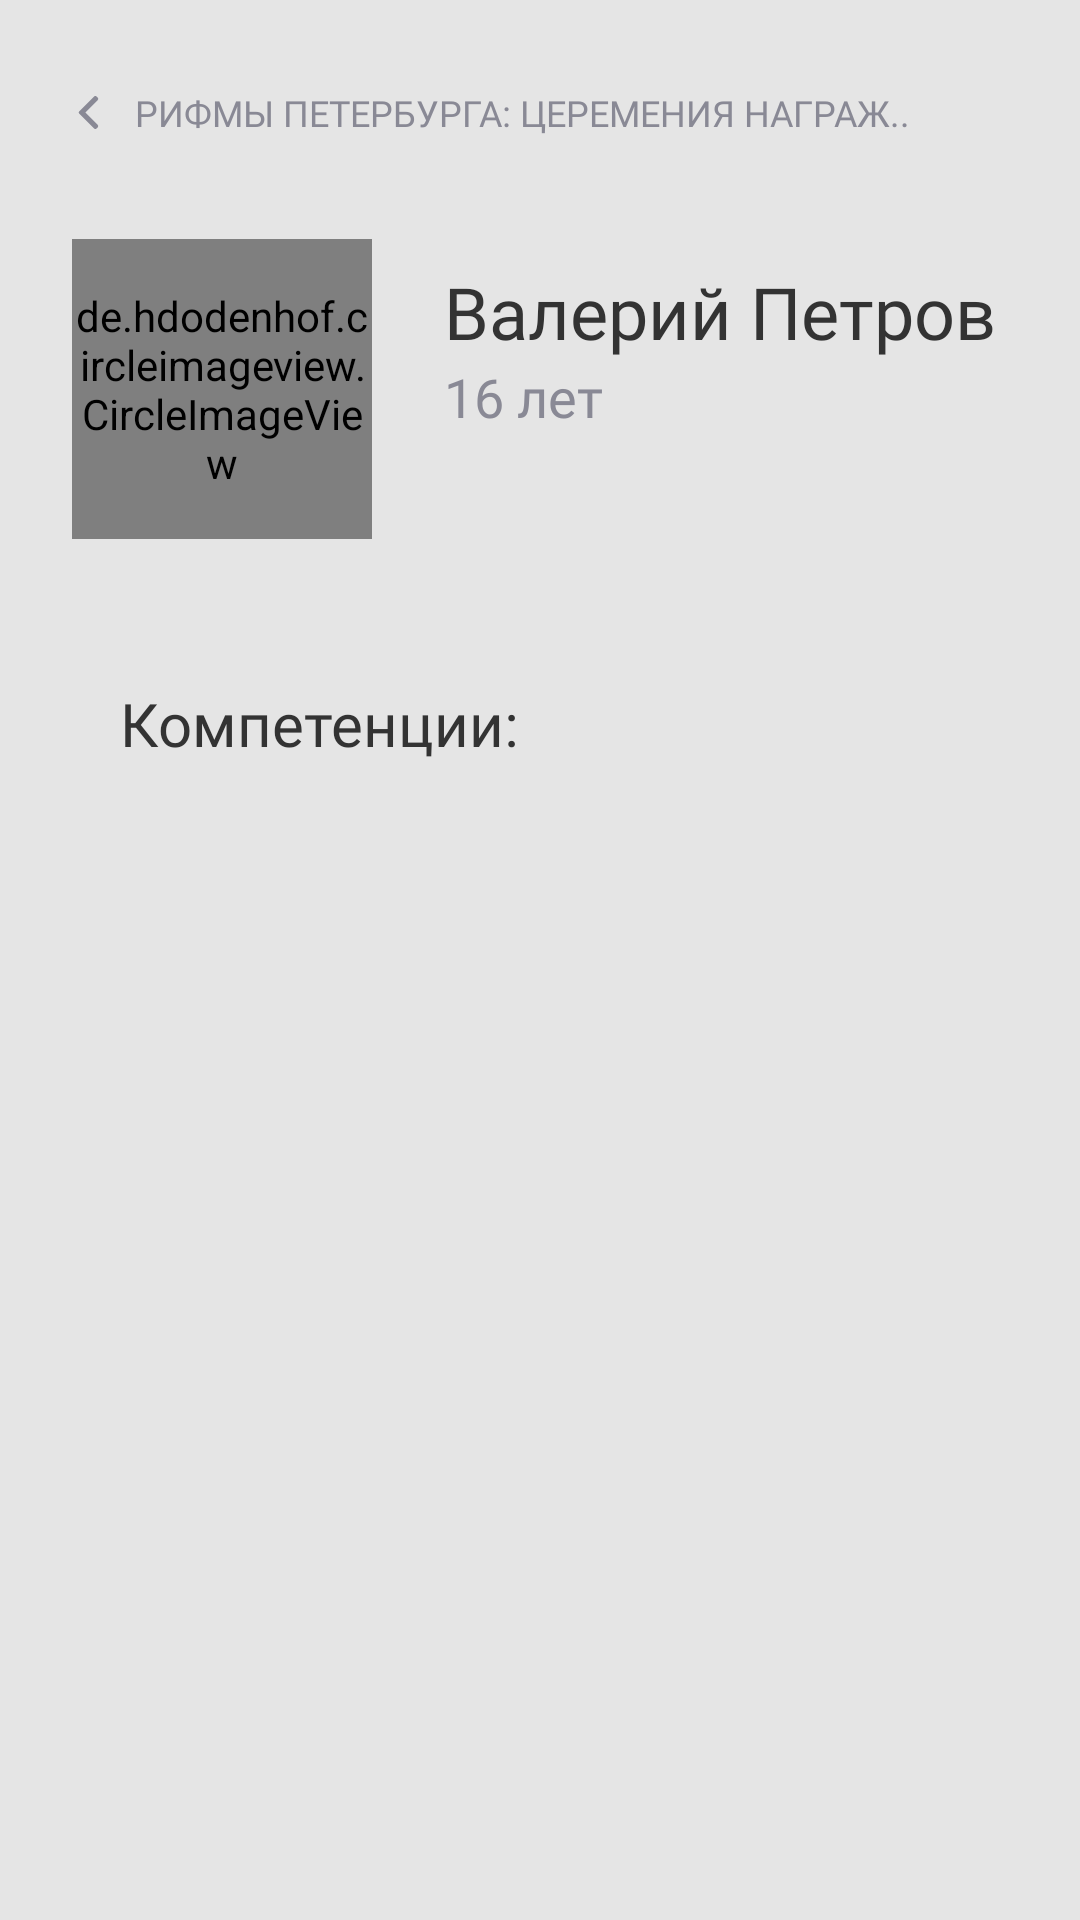

Where to tap for icons on this 1080px x 1920px app screen, as point (x, y):
left arrow: point (88, 112)
